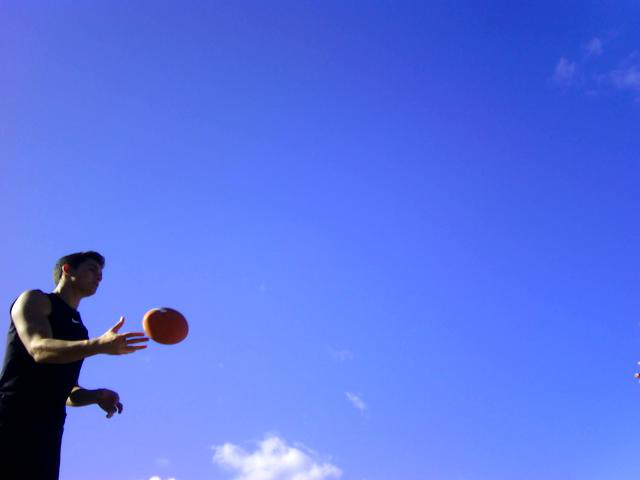football: (139, 302, 194, 349)
